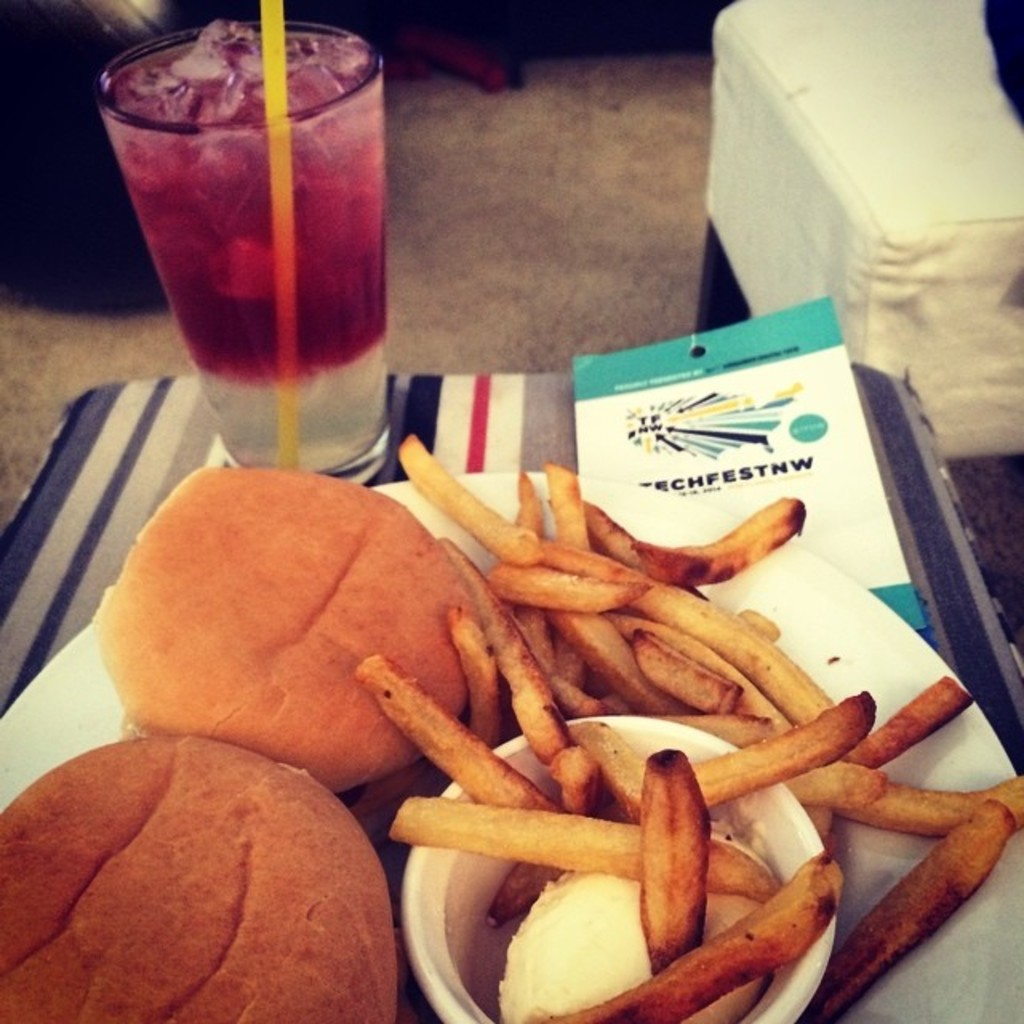French fries: (347, 422, 1022, 1022)
